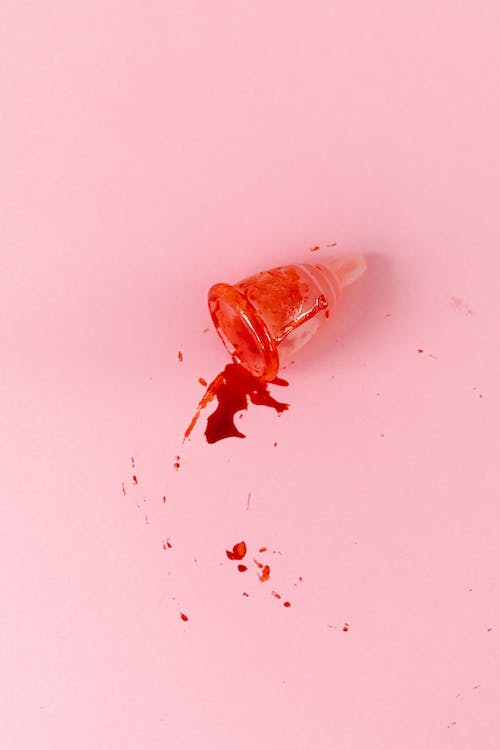blood: (116, 235, 425, 636), (203, 256, 346, 386)
